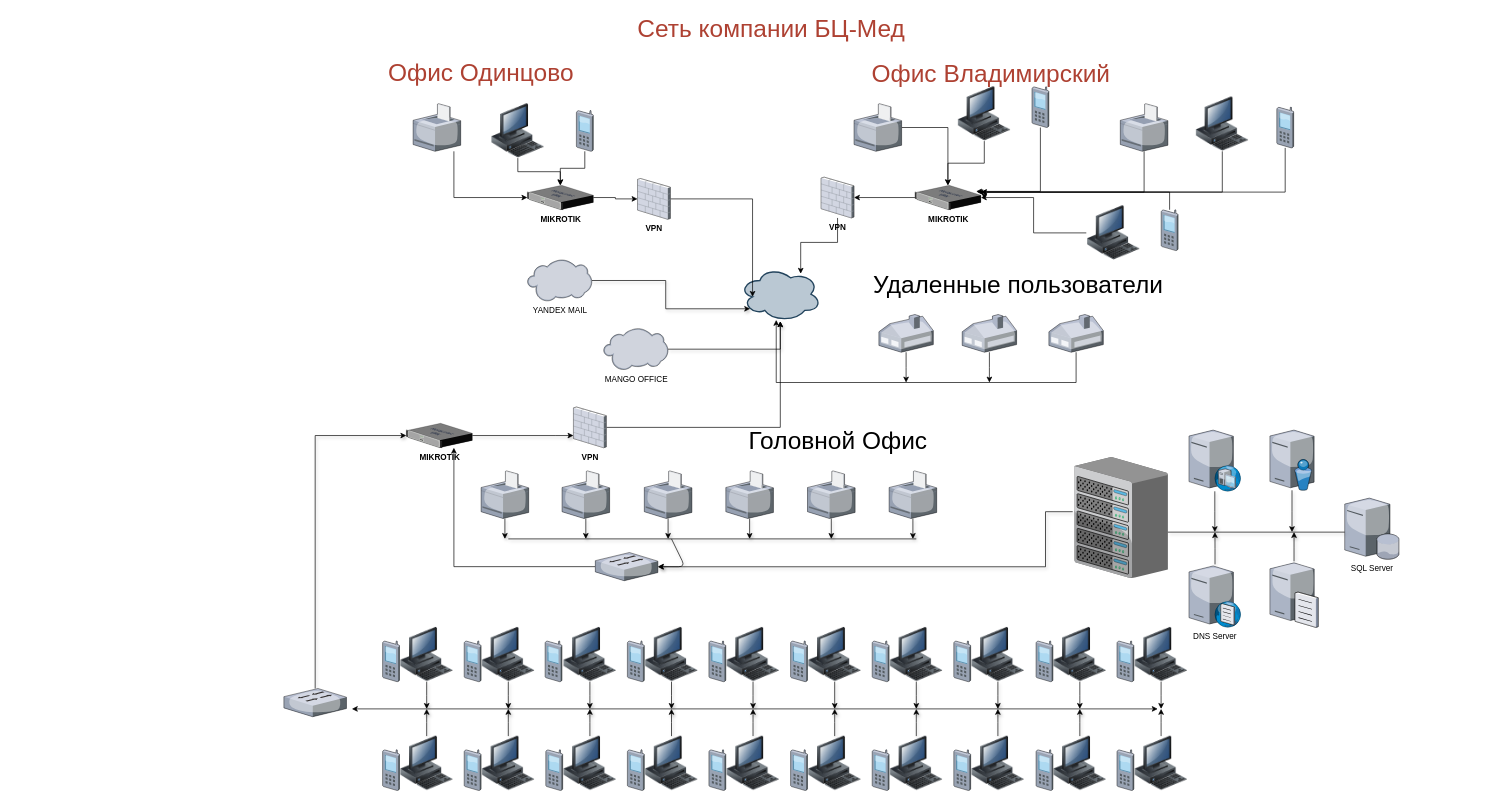
The diagram is 1485 pixels wide and 802 high, and some of its shapes have lost their labels. Here are the shapes that lost their labels. From the top down, the centre of each, then its label:
At [779,294]: "Internet".
At [1214,460]: "Terminal Server".
At [1292,460]: "AD Server".
At [1121,517]: "SERVERS".
At [1294,594]: "File Server".
